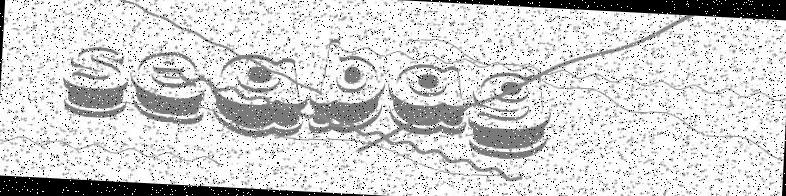a: (211, 52, 310, 141), (386, 62, 469, 138)
b: (307, 36, 387, 137)
e: (130, 49, 209, 125)
g: (468, 70, 554, 160)
s: (61, 43, 131, 120)
